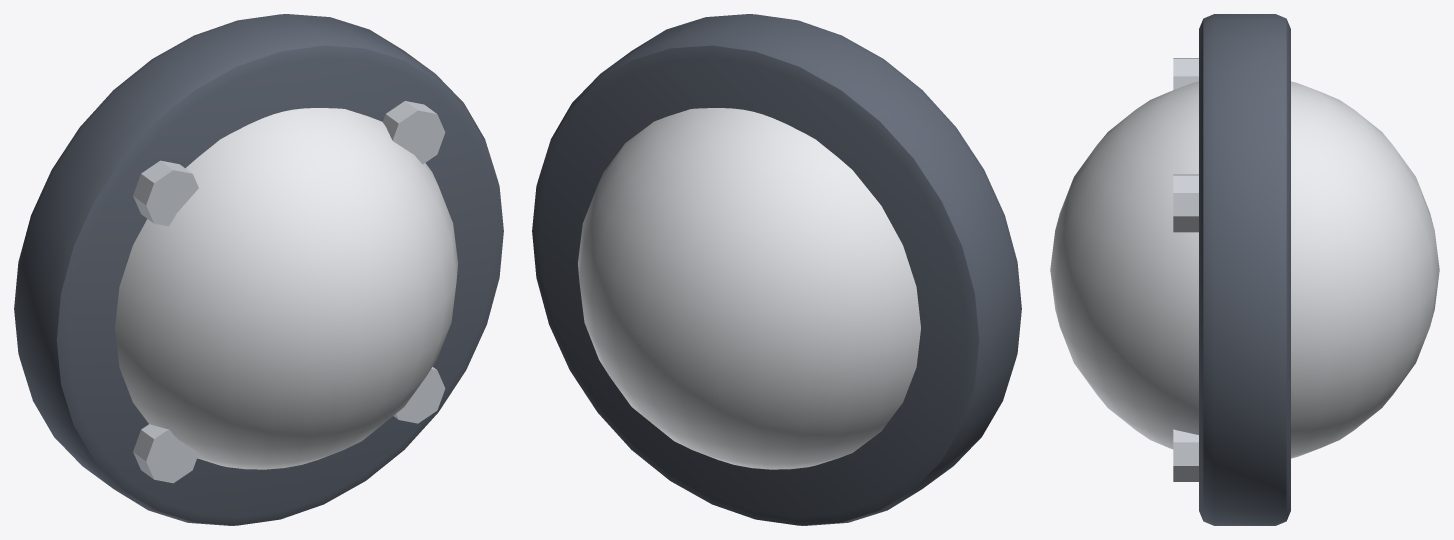
Rendered from pivot_mount.glb.
3 renders of one model, left to right at view 1: azimuth 30°, elevation 25°; view 2: azimuth 150°, elevation 25°; view 3: azimuth 270°, elevation 25°, orthographic. The views are drawn at different scales.
Visible parts, largest first — view 1: Sphere; view 2: Sphere; view 3: Sphere.
Boxes of the visible parts, x1,y1,x2,y2 form: Sphere: [14, 14, 503, 525]; Sphere: [532, 14, 1021, 525]; Sphere: [1050, 14, 1439, 525].
Size of the model in its own units: 1 by 1 by 0.76.
